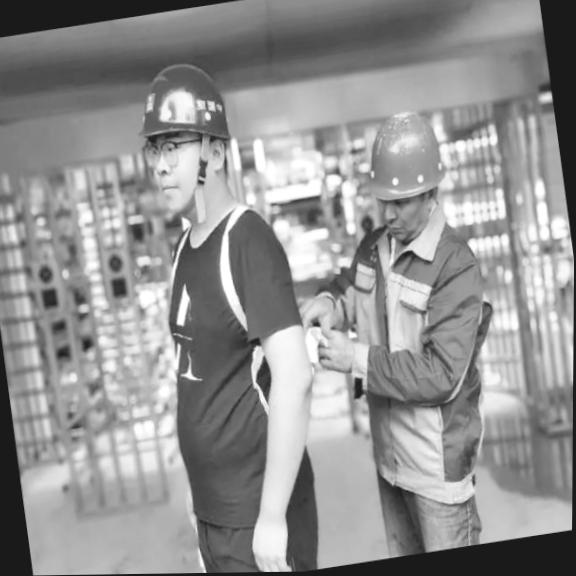no_safety_vest: (136, 201, 326, 547), (302, 225, 508, 519)
